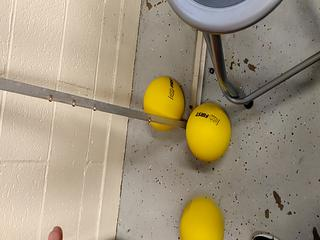power_cell: (137, 71, 189, 132), (182, 101, 234, 162), (177, 192, 227, 240)
